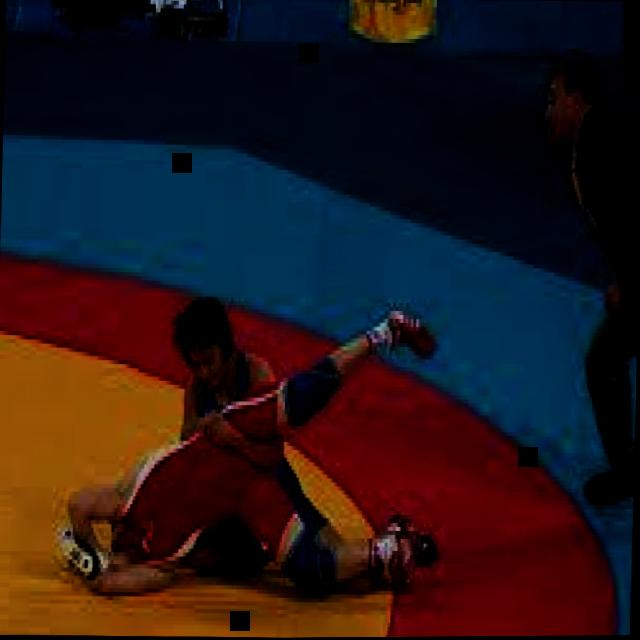Fall-Detected: (40, 268, 435, 610)
